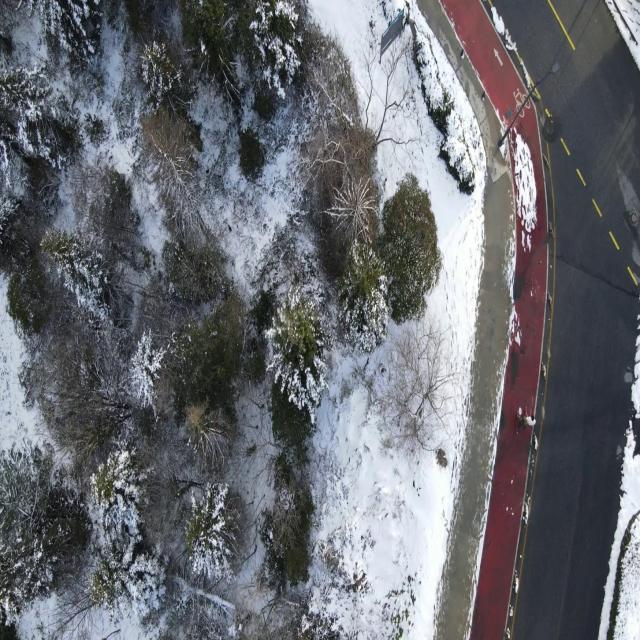p3rson: (515, 410, 526, 433), (526, 411, 536, 428)
